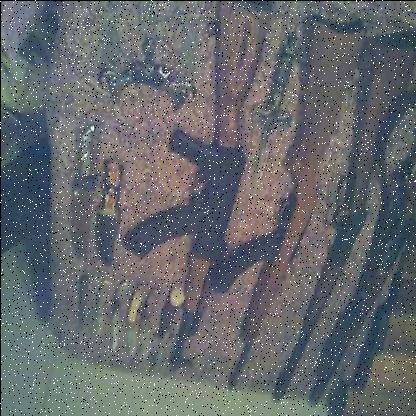rifle: (89, 1, 268, 378), (204, 1, 363, 398), (263, 24, 416, 415), (299, 130, 416, 411)
